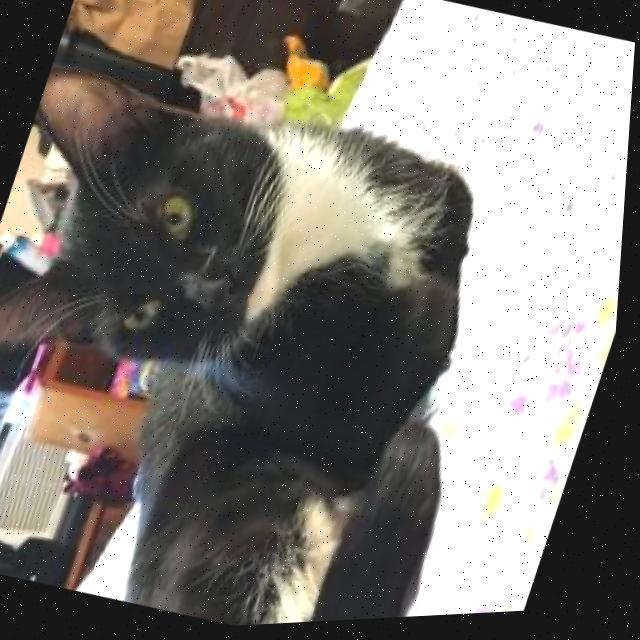Tuxedo: (0, 30, 565, 640)
